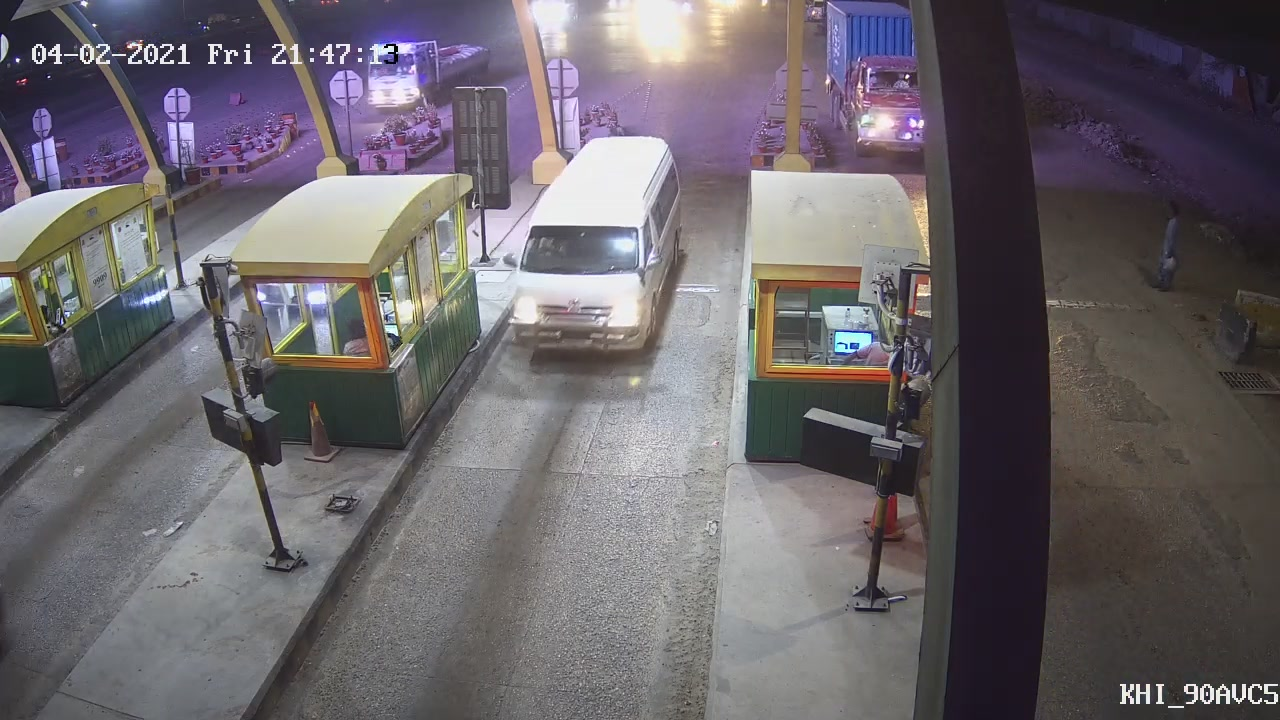F3: (498, 133, 686, 363)
